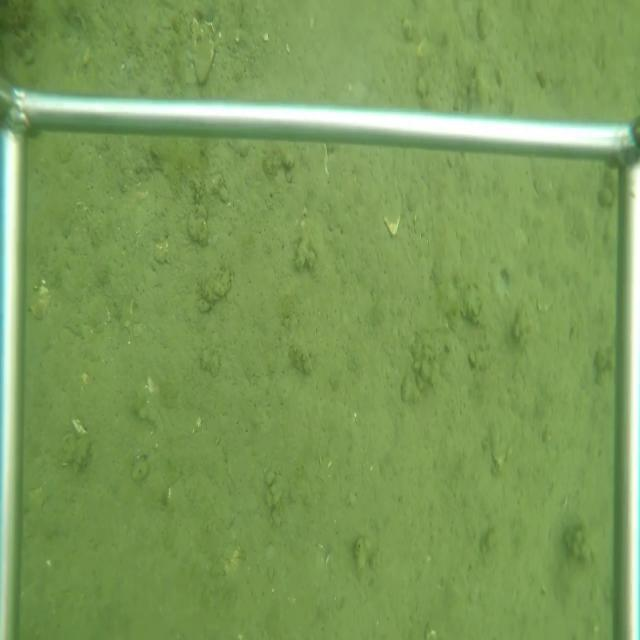Oyster-Indeterminate: (189, 18, 217, 91)
